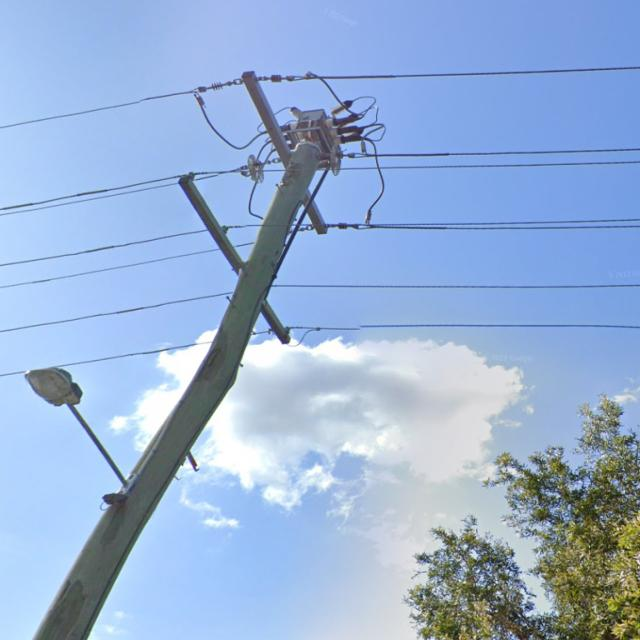HV-switch: (265, 99, 377, 178)
HV-transmission: (196, 72, 370, 235)
crossarm: (178, 174, 291, 346), (241, 69, 329, 236)
streetlight: (24, 368, 132, 490)
timber-pole: (31, 141, 325, 640)
